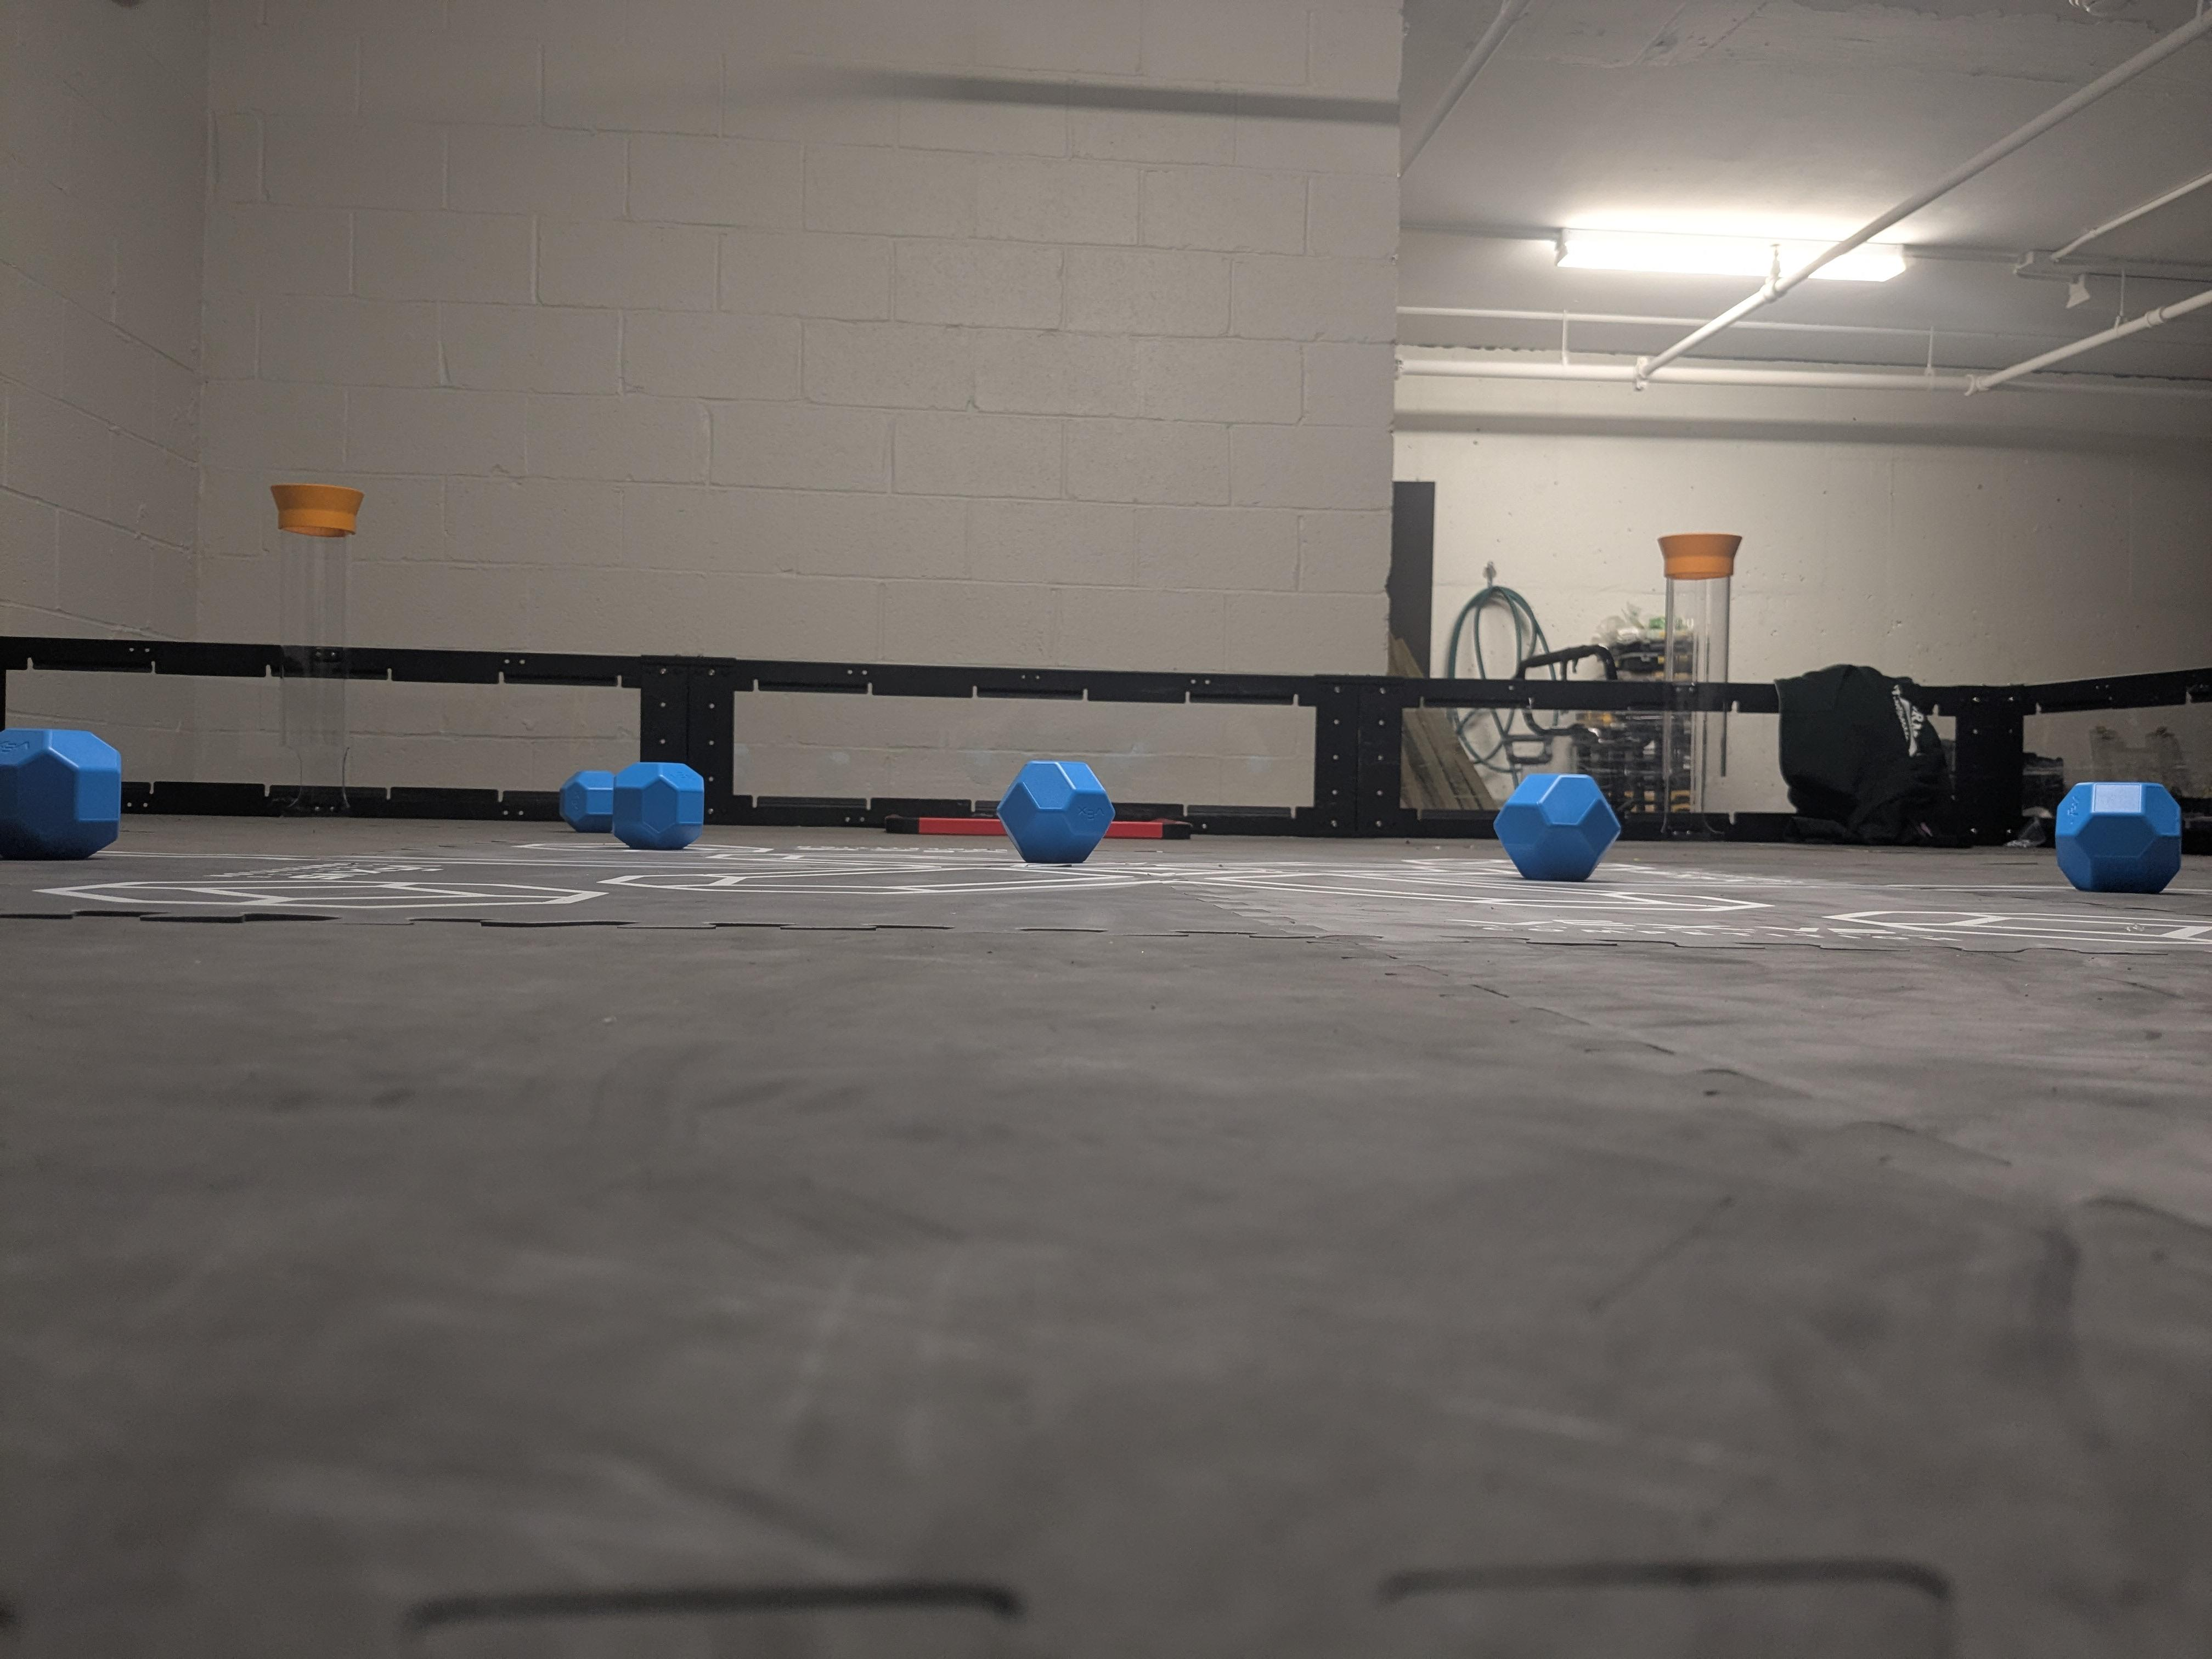Vex-Pieces-BLUE: (3, 727, 120, 857), (2055, 781, 2181, 889), (1496, 774, 1613, 878), (559, 765, 704, 847), (1001, 762, 1109, 857)
